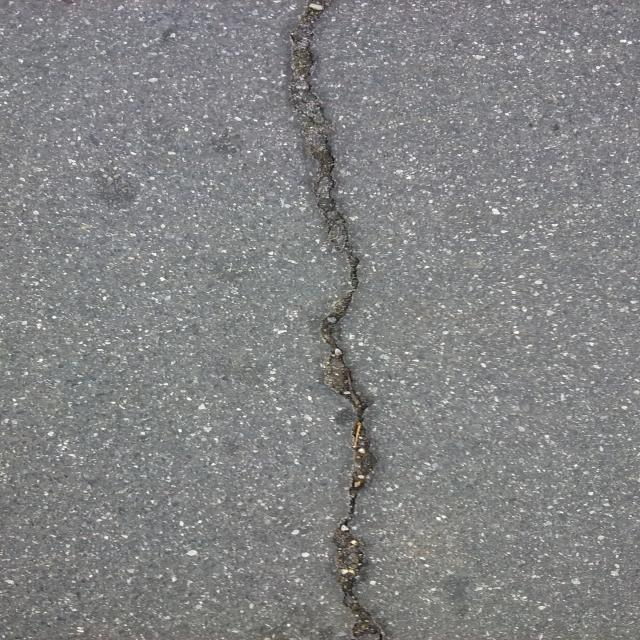Longitudial: (272, 0, 426, 640)
